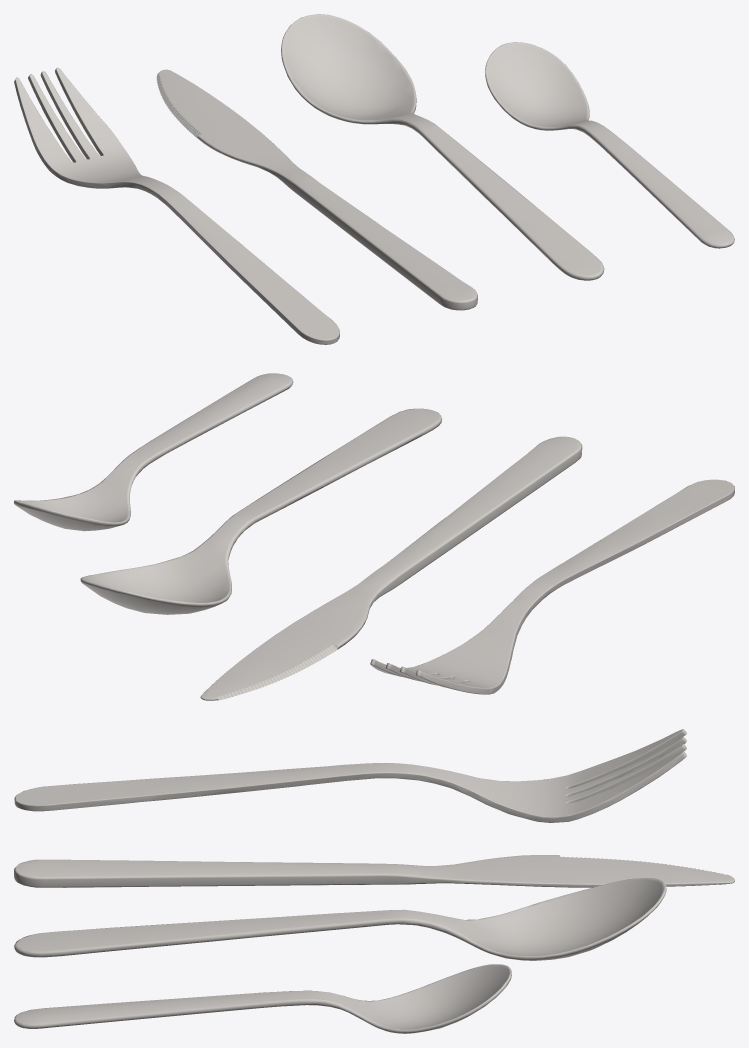
File: fornuft_komplet_sztuccow_24_szt_70014999.glb
The picture shows the model from 3 angles, top to bottom: view 1: azimuth 30°, elevation 25°; view 2: azimuth 150°, elevation 25°; view 3: azimuth 270°, elevation 25°; orthographic projection. The views are drawn at different scales.
Visible parts, largest first — view 1: fornuft_komplet_sztuccow_24_szt_70014999; view 2: fornuft_komplet_sztuccow_24_szt_70014999; view 3: fornuft_komplet_sztuccow_24_szt_70014999.
Part boxes in pixels (x1,y1,x2,y2): fornuft_komplet_sztuccow_24_szt_70014999: [14, 14, 734, 344]; fornuft_komplet_sztuccow_24_szt_70014999: [14, 373, 734, 700]; fornuft_komplet_sztuccow_24_szt_70014999: [14, 729, 734, 1033].
Bounding box in the file's own units: 0.1797 × 0.0206 × 0.209.
4 materials, 4 textured.
